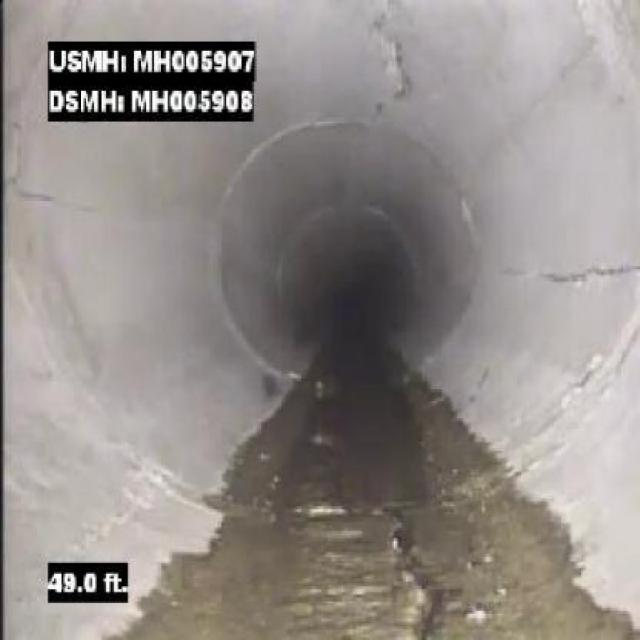Buckling: (365, 520, 497, 632), (355, 0, 439, 118)
Crack: (494, 260, 637, 288), (18, 182, 112, 224)
